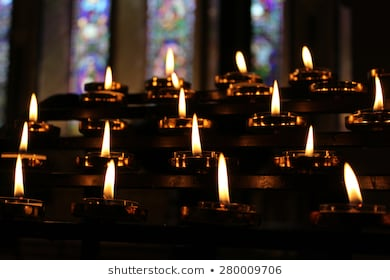Fire: (215, 152, 232, 206), (342, 162, 363, 204), (13, 156, 28, 202), (189, 111, 204, 156), (24, 90, 42, 122), (269, 79, 283, 116), (233, 48, 250, 77), (17, 120, 32, 152), (372, 74, 385, 110), (105, 159, 115, 200), (101, 117, 111, 156), (177, 87, 188, 121), (102, 63, 114, 94), (302, 44, 314, 73), (304, 124, 315, 155), (164, 45, 174, 77), (171, 71, 179, 87)
